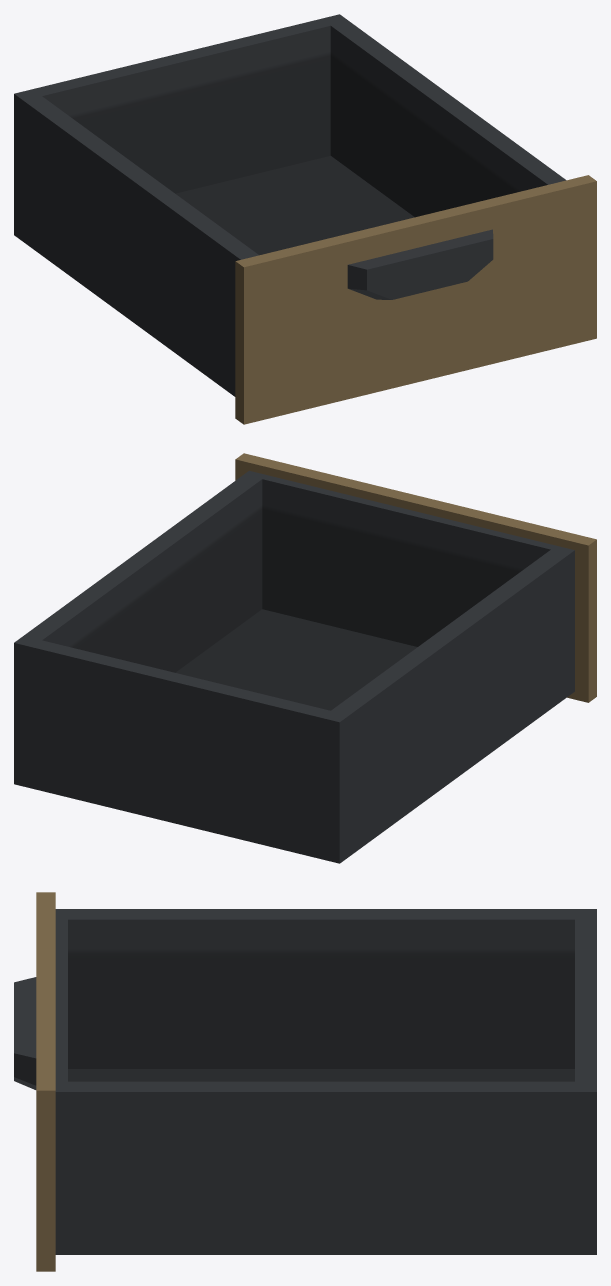
File: SM_Prop_Desk_Drawer_01.fbx
3 views of the same model, one above another, from view 1: azimuth 30°, elevation 25°; view 2: azimuth 150°, elevation 25°; view 3: azimuth 270°, elevation 25° (orthographic). The views are drawn at different scales.
Visible parts, largest first — view 1: SM_Prop_Desk_Drawer_01; view 2: SM_Prop_Desk_Drawer_01; view 3: SM_Prop_Desk_Drawer_01.
Part boxes in pixels (x1,y1,x2,y2): SM_Prop_Desk_Drawer_01: (14,14,596,424); SM_Prop_Desk_Drawer_01: (14,453,596,863); SM_Prop_Desk_Drawer_01: (14,892,596,1271).
Size of the model in its own units: 73.94 by 31.49 by 91.85.
